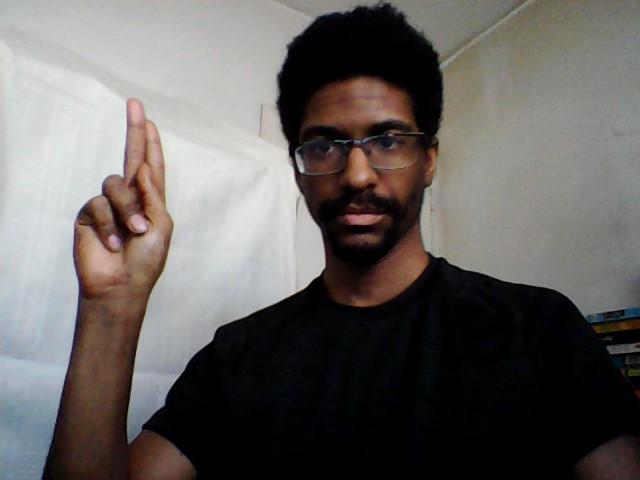k: (68, 93, 178, 315)
